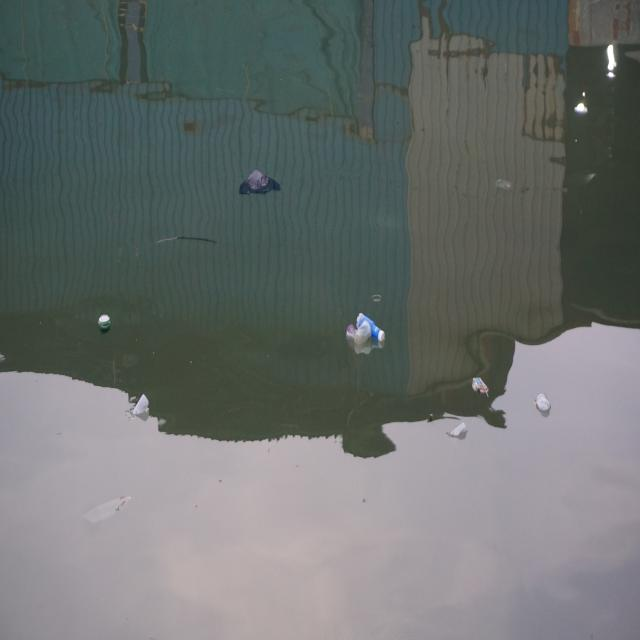Botol Plastik: (356, 307, 389, 346)
Bungkus Minuman: (534, 391, 555, 420), (133, 393, 152, 423), (446, 422, 470, 443), (354, 321, 373, 347)
Kantong Plastik: (239, 167, 282, 204), (85, 493, 131, 526)
